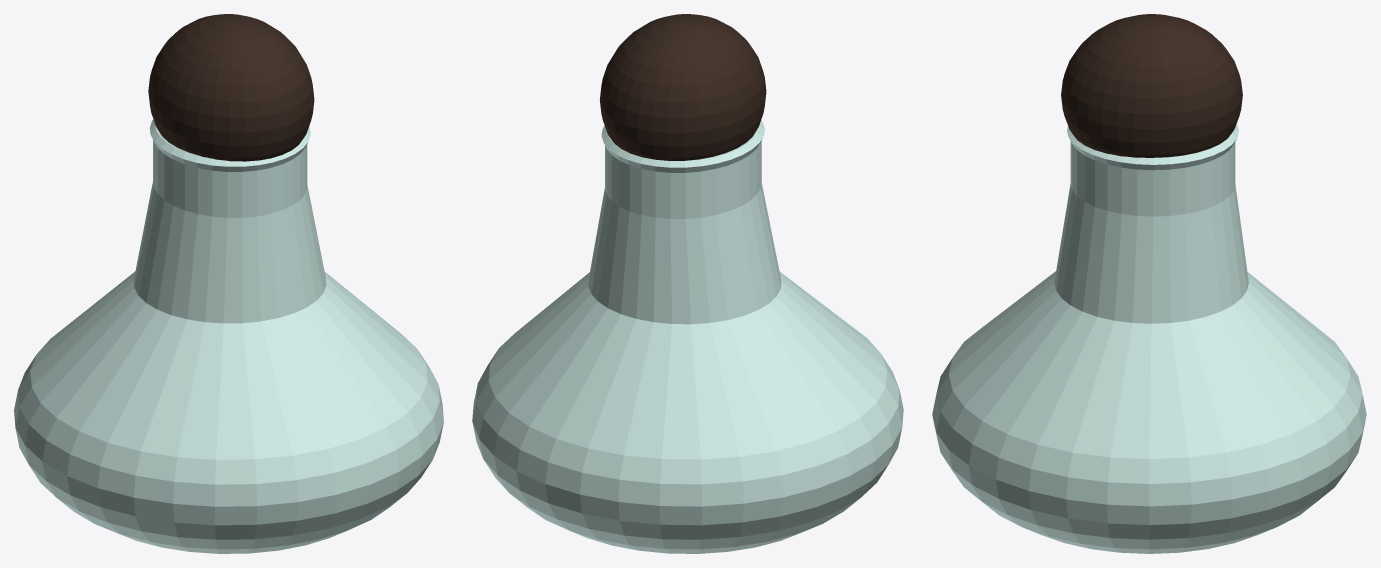
File: HealthPotion.fbx
3 views of the same model, side by side, from view 1: azimuth 30°, elevation 25°; view 2: azimuth 150°, elevation 25°; view 3: azimuth 270°, elevation 25° (orthographic).
Visible parts, largest first — view 1: Bottle; view 2: Bottle; view 3: Bottle.
Part boxes in pixels (<box>): Bottle: <box>14,14,443,553</box>; Bottle: <box>472,14,903,553</box>; Bottle: <box>932,14,1366,553</box>.
Size of the model in its own units: 200 by 254 by 200.
